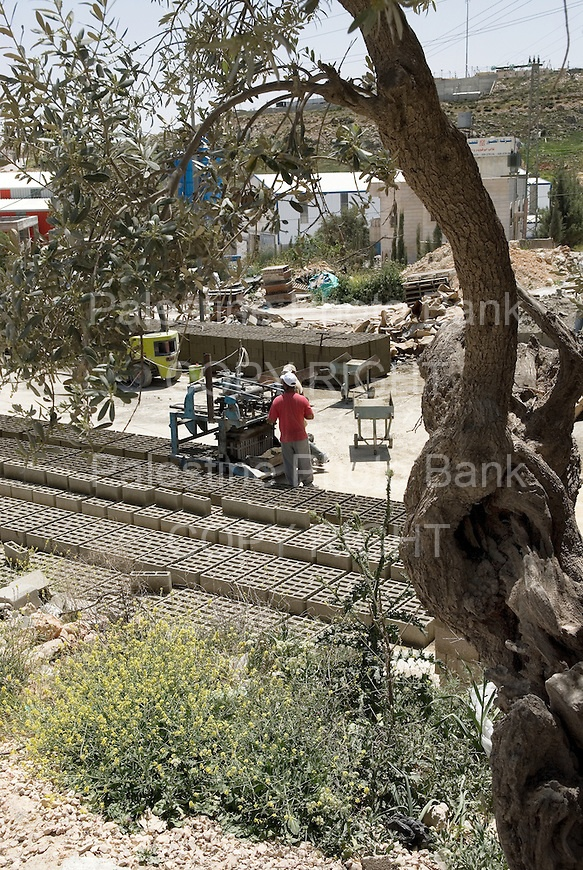white: (279, 372, 297, 392)
